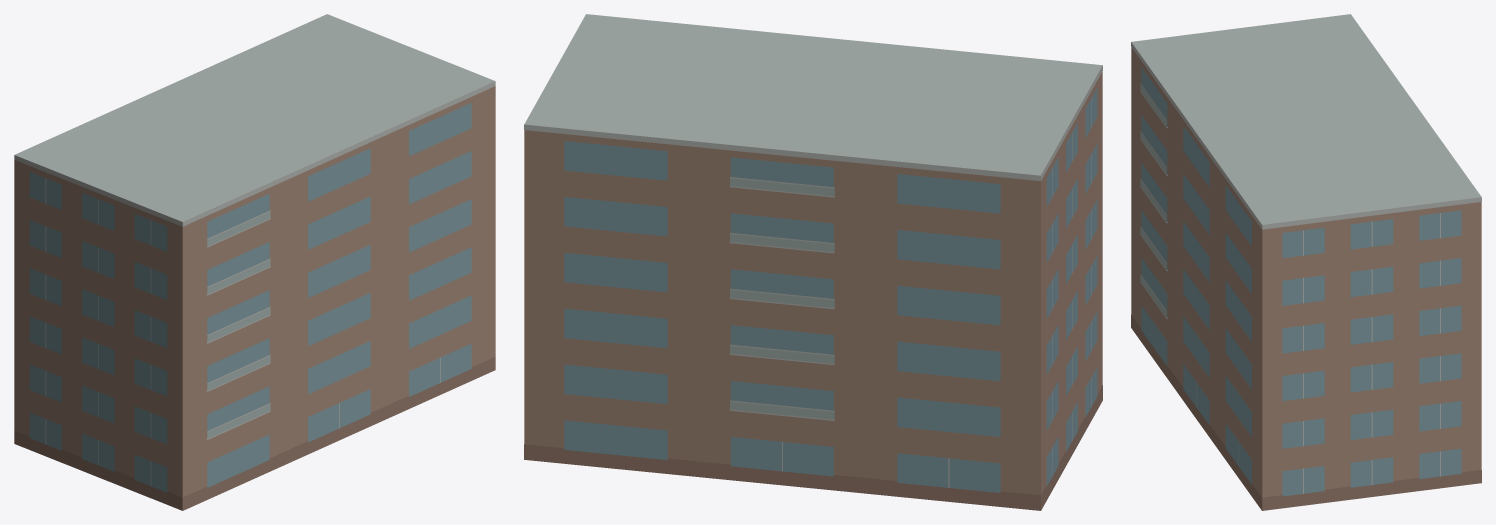
The model's file is survey-upis-32617579.glb.
The picture shows the model from 3 angles, left to right: view 1: azimuth 30°, elevation 25°; view 2: azimuth 150°, elevation 25°; view 3: azimuth 270°, elevation 25°; orthographic projection. The views are drawn at different scales.
Parts seen in each view (by area): view 1: survey-upis-32617579.tmp; view 2: survey-upis-32617579.tmp; view 3: survey-upis-32617579.tmp.
Part boxes in pixels (box(x1,y1,x2,y2)): survey-upis-32617579.tmp: box(14, 14, 495, 510); survey-upis-32617579.tmp: box(524, 14, 1102, 510); survey-upis-32617579.tmp: box(1131, 14, 1481, 510).
Size of the model in its own units: 23.59 by 14.9 by 16.57.
